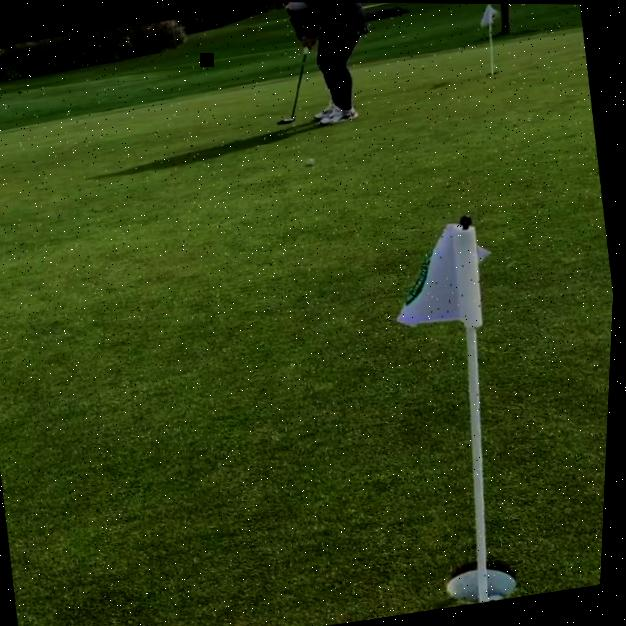ClubHead: (282, 118, 296, 124)
GolfBall: (493, 592, 510, 600)
